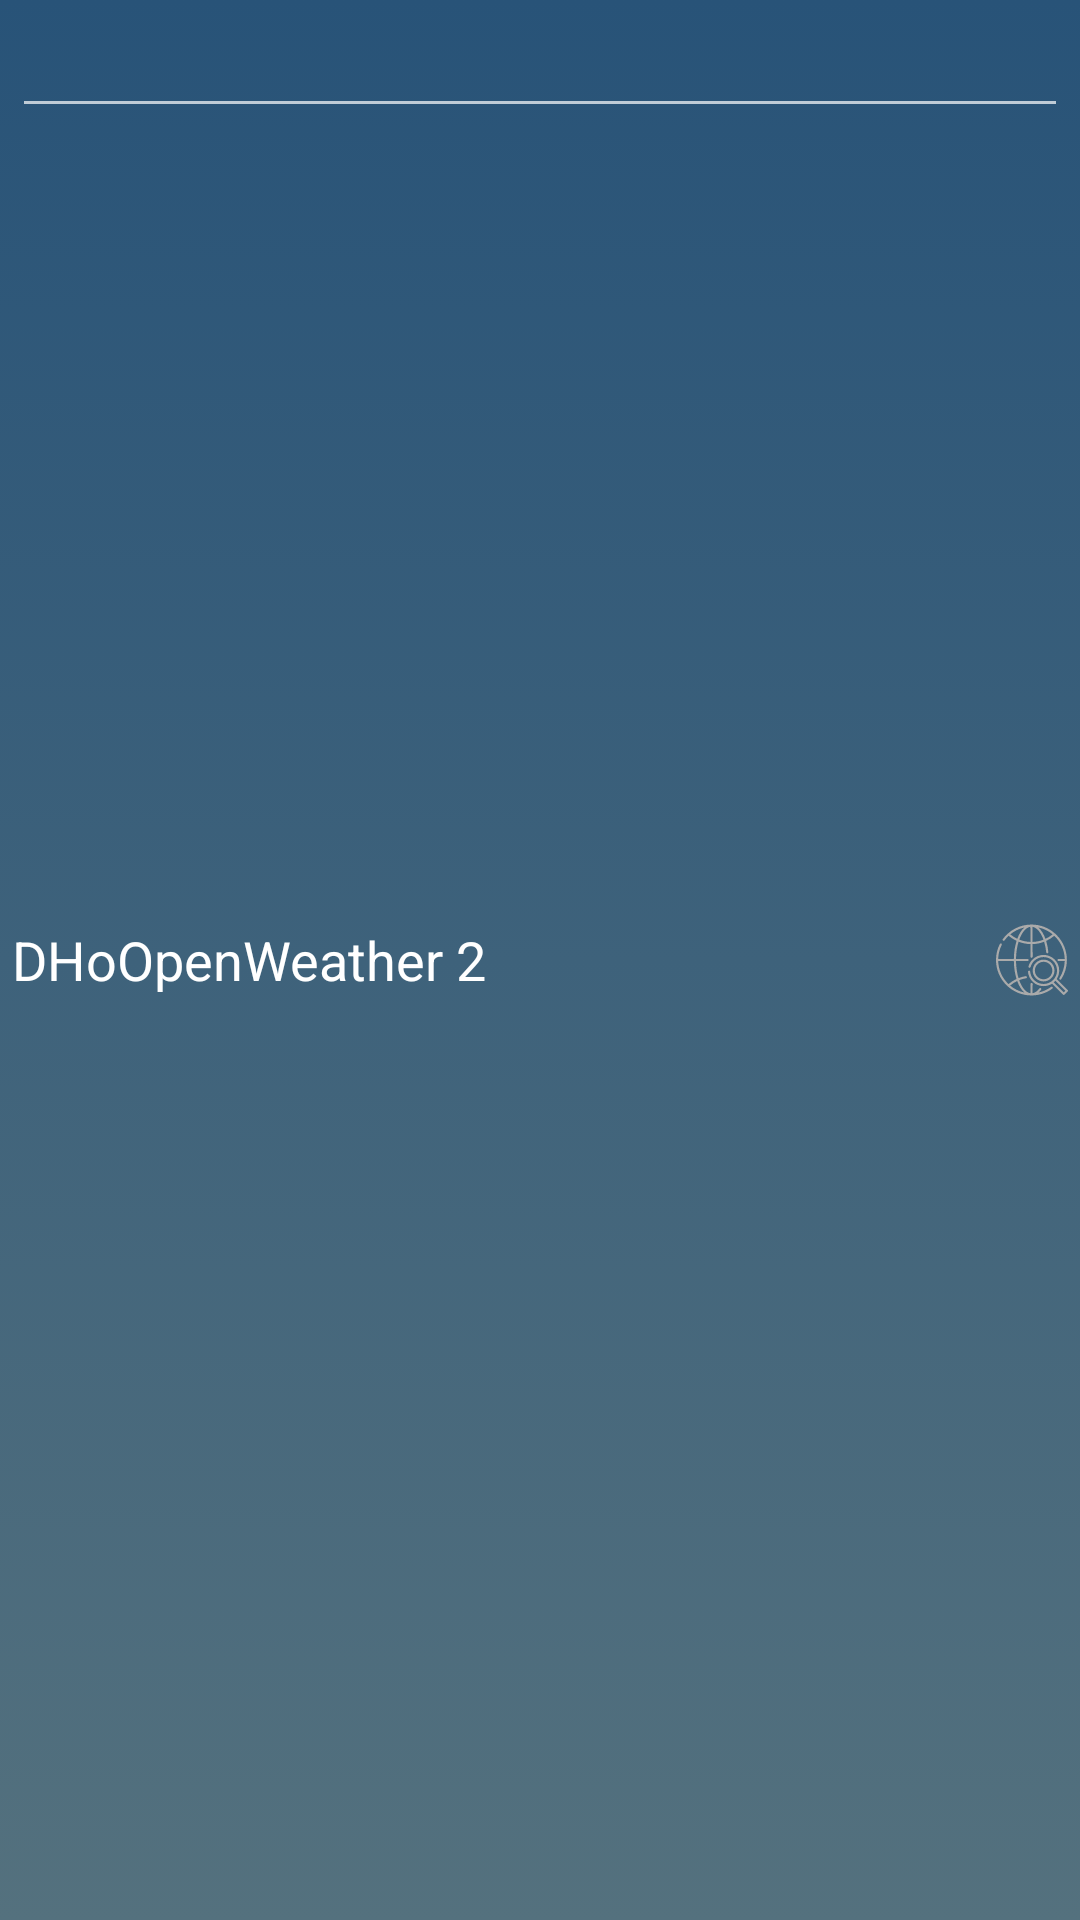

Where to tap for icons on this 1080x1920 app screen, as [x,y]:
globe: [1032,960]
